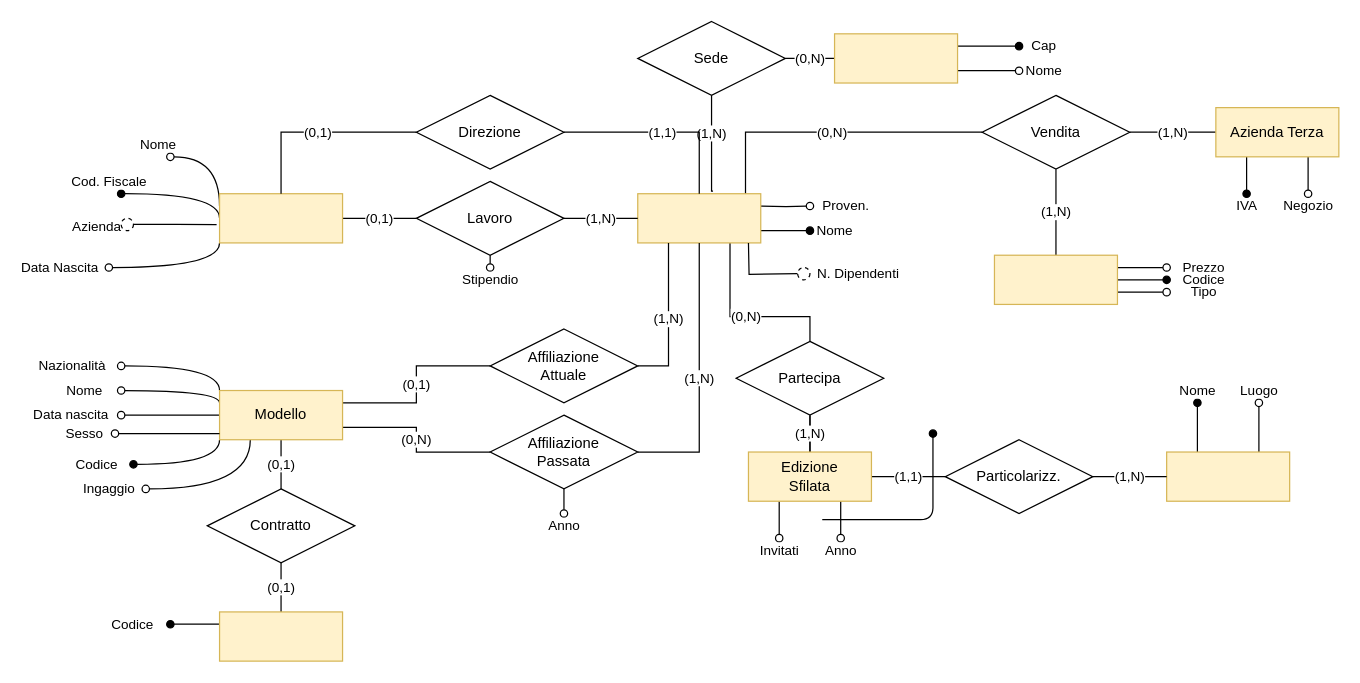
This 1360x683 diagram has some shape labels left out. The centre of each missing label's shape, as x and y in pixels:
"Azienda di moda" belongs at [699,217].
"Città" belongs at [895,58].
"Lavoratore" belongs at [280,217].
"Lotto Generico" belongs at [1055,279].
"Manager" belongs at [280,636].
"Sfilata" belongs at [1227,476].
